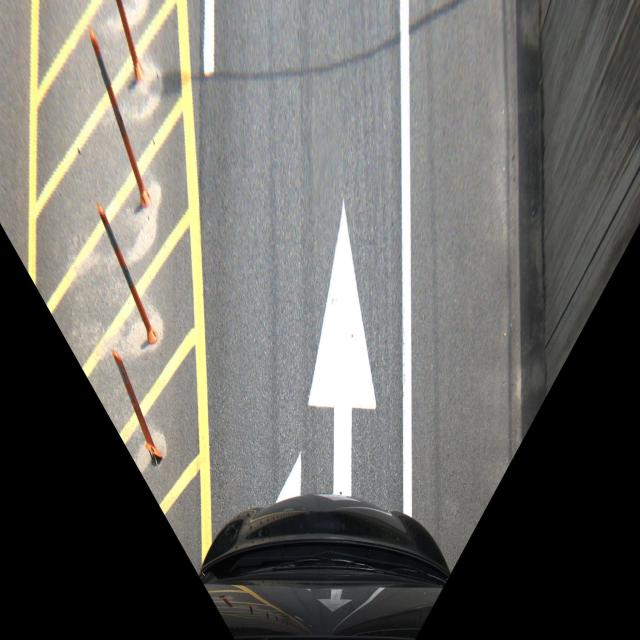forward_left: (190, 194, 417, 511)
